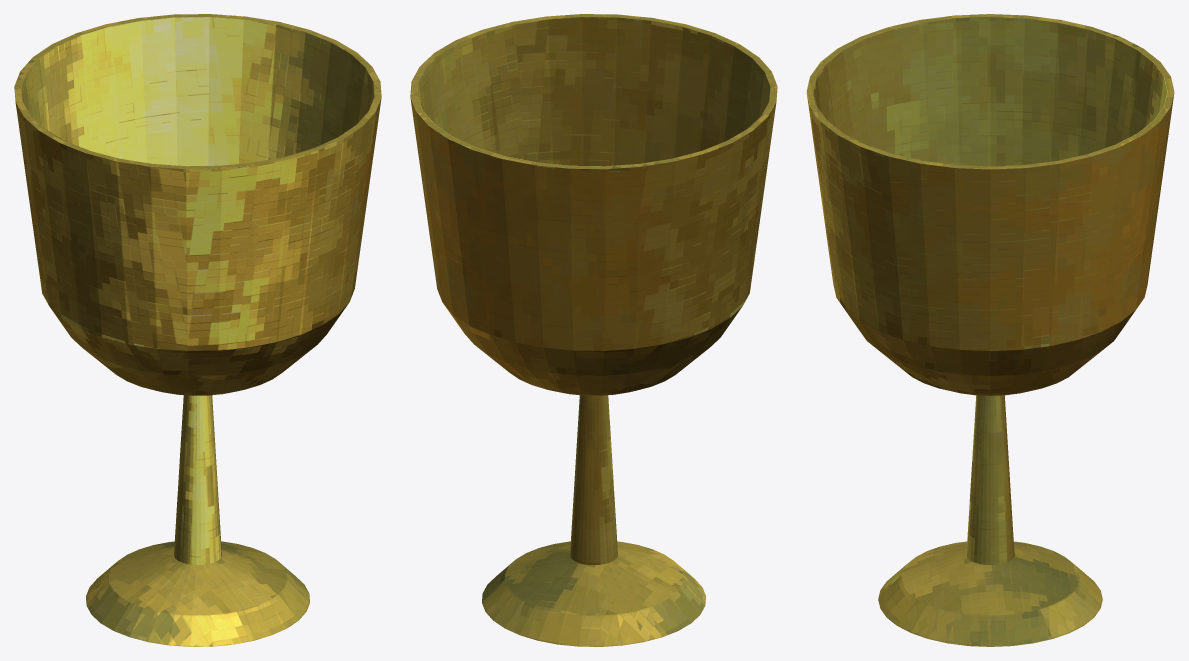
The model's file is st_loot_cup.glb.
3 renders of one model, left to right at view 1: azimuth 30°, elevation 25°; view 2: azimuth 150°, elevation 25°; view 3: azimuth 270°, elevation 25°, orthographic.
Visible parts, largest first — view 1: Cylinder; view 2: Cylinder; view 3: Cylinder.
Part boxes in pixels (box(x1,y1,x2,y2)): Cylinder: box(14, 14, 381, 646); Cylinder: box(410, 14, 777, 646); Cylinder: box(806, 14, 1174, 646).
Bounding box in the file's own units: 0.1855 × 0.2825 × 0.1855.
1 material, 1 textured.
